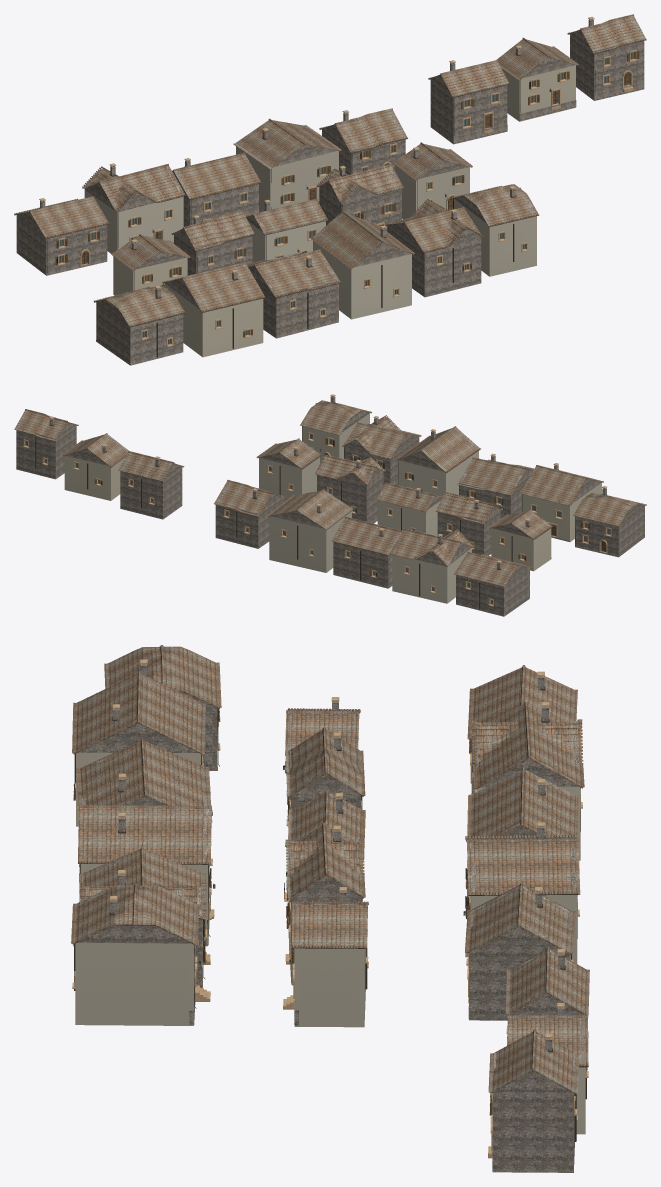
The model's file is duero69_maderuelo_houses512.glb.
The picture shows the model from 3 angles, top to bottom: view 1: azimuth 30°, elevation 25°; view 2: azimuth 150°, elevation 25°; view 3: azimuth 270°, elevation 25°; orthographic projection. The views are drawn at different scales.
Visible parts, largest first — view 1: Maderuelo68_Maderuelo68_CC0_curved_weathered_tiles, Maderuelo68_Maderuelo68_CC0_rubble_walls, Maderuelo68_Maderuelo68_CC0_patchy_lime_render, Maderuelo68_Maderuelo68_CC0_warm_cutstone_frames, Maderuelo68_Maderuelo68_CC0_weathered_timber_joinery, Maderuelo68_Maderuelo68_inset_old_glass, Maderuelo68_Maderuelo68_forged_iron; view 2: Maderuelo68_Maderuelo68_CC0_curved_weathered_tiles, Maderuelo68_Maderuelo68_CC0_rubble_walls, Maderuelo68_Maderuelo68_CC0_patchy_lime_render, Maderuelo68_Maderuelo68_CC0_warm_cutstone_frames, Maderuelo68_Maderuelo68_CC0_weathered_timber_joinery, Maderuelo68_Maderuelo68_interior_room_shadow, Maderuelo68_Maderuelo68_inset_old_glass; view 3: Maderuelo68_Maderuelo68_CC0_curved_weathered_tiles, Maderuelo68_Maderuelo68_CC0_rubble_walls, Maderuelo68_Maderuelo68_CC0_patchy_lime_render, Maderuelo68_Maderuelo68_CC0_warm_cutstone_frames, Maderuelo68_Maderuelo68_forged_iron.
Boxes of the visible parts, x1,y1,x2,y2 form: Maderuelo68_Maderuelo68_CC0_curved_weathered_tiles: (14,14,646,327); Maderuelo68_Maderuelo68_CC0_rubble_walls: (16,17,644,365); Maderuelo68_Maderuelo68_CC0_patchy_lime_render: (84,65,575,357); Maderuelo68_Maderuelo68_CC0_warm_cutstone_frames: (39,16,637,347); Maderuelo68_Maderuelo68_CC0_weathered_timber_joinery: (55,51,639,344); Maderuelo68_Maderuelo68_inset_old_glass: (58,52,633,343); Maderuelo68_Maderuelo68_forged_iron: (39,26,629,336); Maderuelo68_Maderuelo68_CC0_curved_weathered_tiles: (14,400,646,586); Maderuelo68_Maderuelo68_CC0_rubble_walls: (16,396,644,616); Maderuelo68_Maderuelo68_CC0_patchy_lime_render: (64,413,601,603); Maderuelo68_Maderuelo68_CC0_warm_cutstone_frames: (23,394,611,606); Maderuelo68_Maderuelo68_CC0_weathered_timber_joinery: (25,434,610,604); Maderuelo68_Maderuelo68_interior_room_shadow: (35,437,512,609); Maderuelo68_Maderuelo68_inset_old_glass: (26,434,610,603); Maderuelo68_Maderuelo68_CC0_curved_weathered_tiles: (71,645,589,1094); Maderuelo68_Maderuelo68_CC0_rubble_walls: (75,647,585,1172); Maderuelo68_Maderuelo68_CC0_patchy_lime_render: (75,752,585,1134); Maderuelo68_Maderuelo68_CC0_warm_cutstone_frames: (72,659,588,1158); Maderuelo68_Maderuelo68_forged_iron: (74,686,565,1101).
Bounding box in the file's own units: 95.28 × 14.61 × 41.51.
9 materials, 5 textured.
